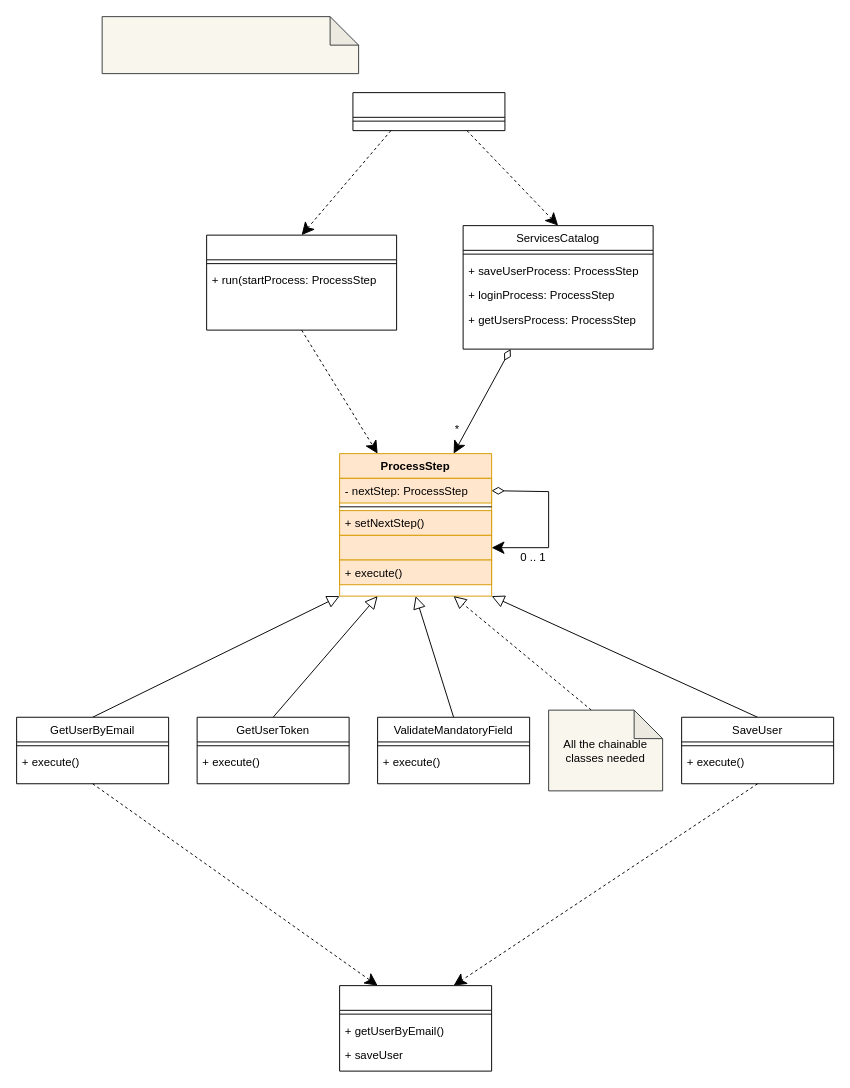
Some shapes in this 850 by 1088 pixel diagram are drawn without their labels. The shapes that lost their labels are listed below. From the top down, each one's box as (x1, y1, x2, y2) in pixels, then its label:
(101, 16, 359, 74): Chain of Responsability Service Process
(352, 92, 505, 131): Client
(206, 234, 397, 330): GenericService
(339, 534, 492, 560): next()
(339, 985, 492, 1071): UserRepository
